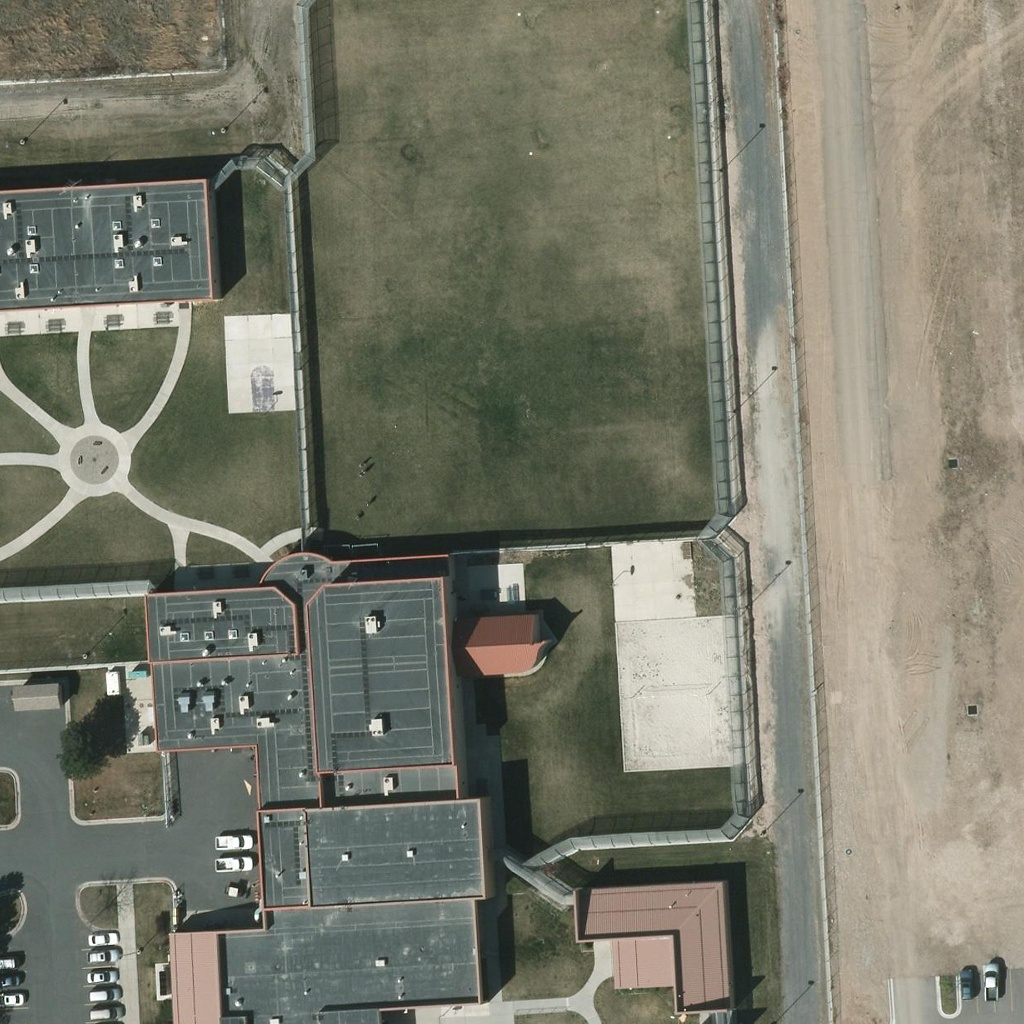car: (957, 968, 975, 1000), (88, 930, 118, 946), (89, 947, 119, 963), (87, 967, 117, 983), (88, 986, 120, 1001), (91, 1006, 123, 1021), (1, 972, 21, 985), (1, 994, 23, 1005), (1, 955, 15, 971)
pickup: (213, 831, 253, 852), (215, 855, 255, 876), (983, 965, 998, 1000)
